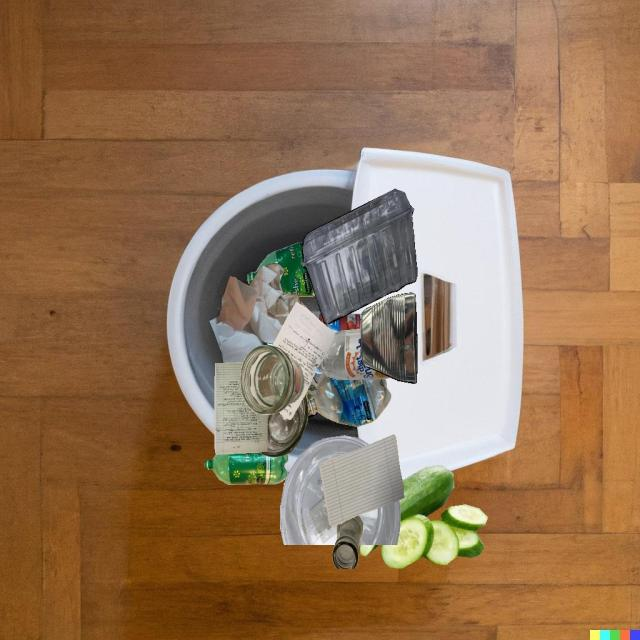biowaste: (381, 465, 488, 569), (300, 300, 307, 309)
glass: (240, 345, 305, 415), (317, 329, 391, 380), (259, 394, 308, 457), (332, 515, 363, 569)
metal: (360, 292, 417, 384)
paper: (209, 263, 301, 363), (320, 434, 404, 526), (272, 302, 335, 420), (214, 362, 267, 455), (267, 345, 314, 412), (307, 377, 318, 397)
plastic: (302, 189, 417, 324), (280, 435, 369, 545), (307, 372, 391, 427), (270, 329, 361, 372), (248, 242, 315, 297), (204, 452, 288, 485), (358, 500, 400, 545), (310, 311, 362, 334)
